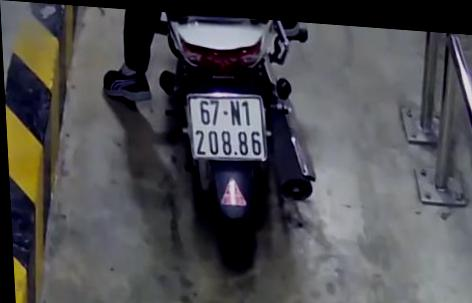License_Plate: (179, 86, 274, 171)
